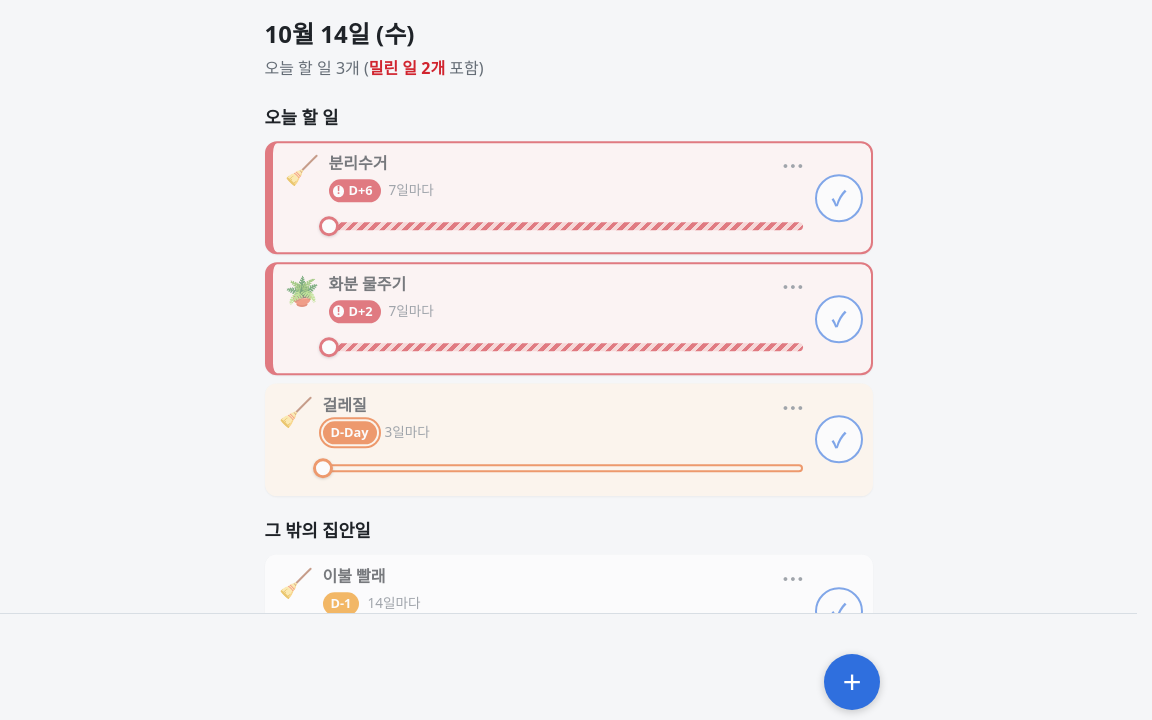
Test: 완료 체크 (F3) › 저장에 실패하면 원래 상태로 되돌리고 오류를 알린다
What coordinates should you click on to do the following:
click the 2nd button "✓"
I would click on:
 (838, 318)
Its box is [814,294,862,342].
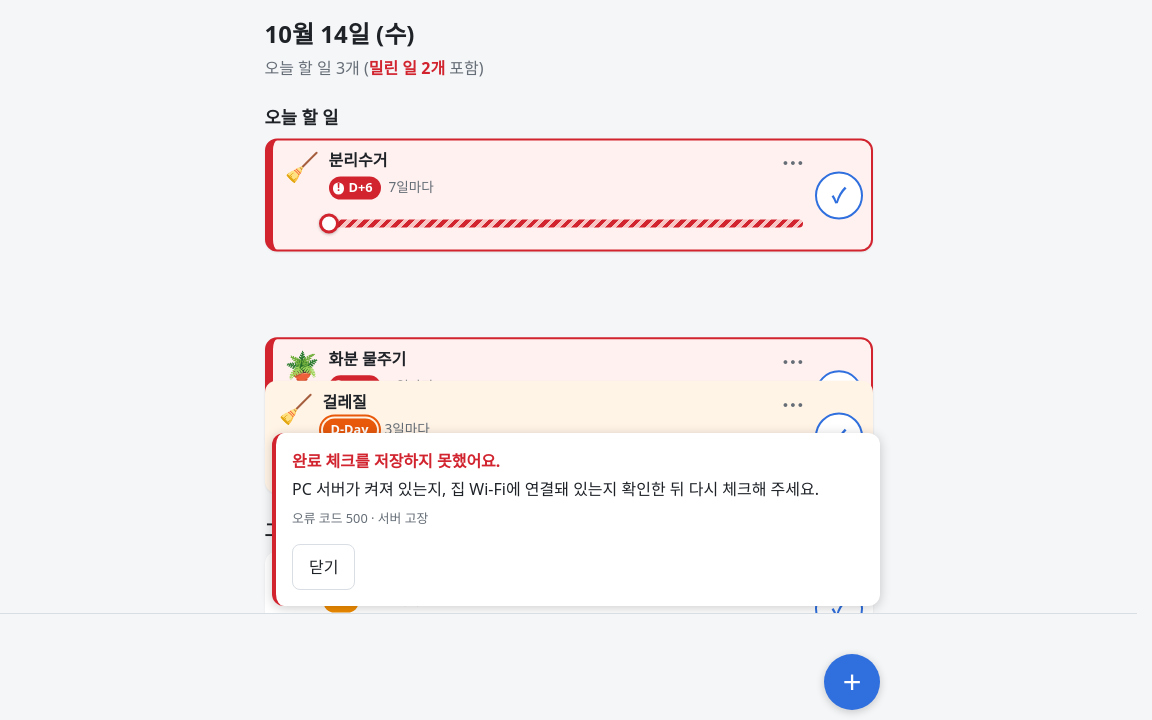
Expected: the text with class "badge__text" reads "D+2", [348,356,373,374]
Now the text with class "error-notice__title" reads "완료 체크를 저장하지 못했어요.", box [292,450,500,472]
Now the text with class "error-notice__detail" reads "오류 코드 500 · 서버 고장", box [292,509,428,527]
What coordinates should you click on to do the following:
click the button "닫기"
I would click on:
 (324, 567)
Its box is [292,544,356,590].
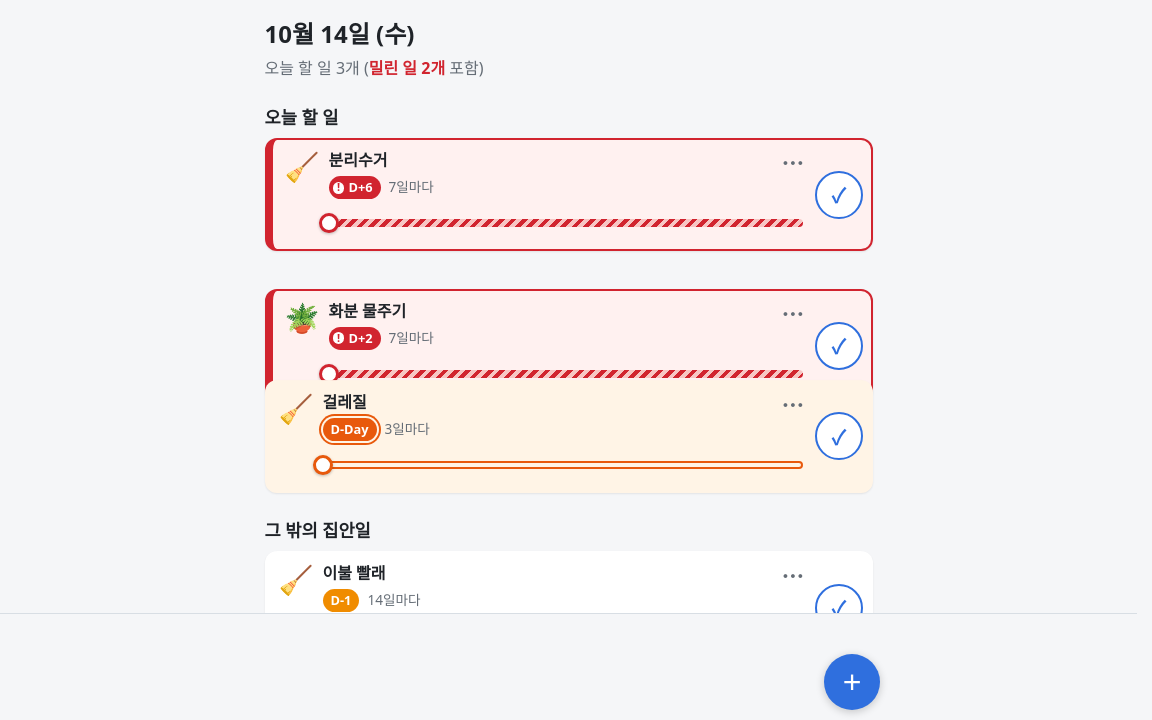
Now the message "완료 체크를 저장하지 못했어요. PC 서버가 켜져 있는지, 집 Wi-Fi에 연결돼 있는지 확인한 뒤 다시 체크해 주세요. 오류 코드 500 ·" is gone
